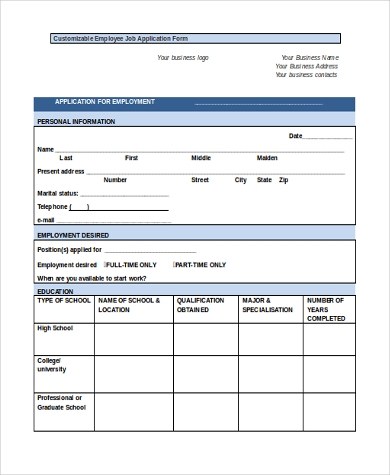table: (34, 295, 355, 430), (34, 125, 355, 225), (34, 240, 354, 284)
